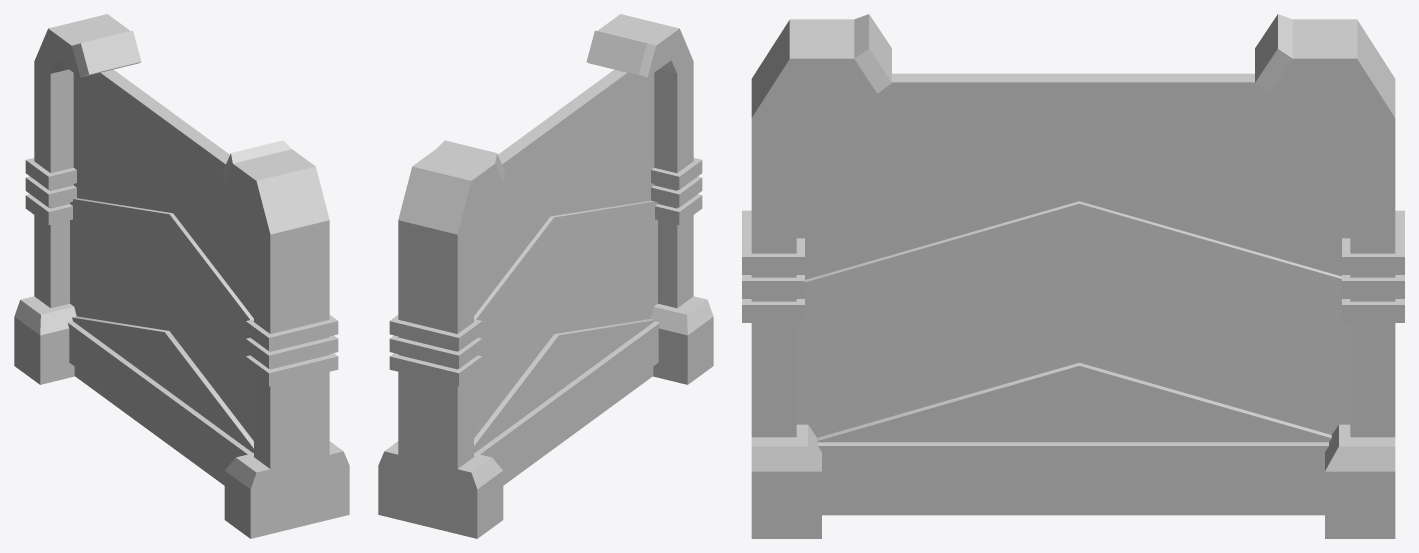
The model's file is AnimatedDoor.fbx.
The picture shows the model from 3 angles, left to right: view 1: azimuth 30°, elevation 25°; view 2: azimuth 150°, elevation 25°; view 3: azimuth 270°, elevation 25°; orthographic projection. The views are drawn at different scales.
Parts seen in each view (by area): view 1: Door_Ark, top_2, top, top_1; view 2: Door_Ark, top_2, top, top_1; view 3: Door_Ark, top_2, top, top_1.
Part boxes in pixels (left/top/right/bottom): Door_Ark: left=14, top=14, right=349, bottom=538; top_2: left=70, top=198, right=253, bottom=440; top: left=73, top=69, right=253, bottom=318; top_1: left=72, top=316, right=253, bottom=485; Door_Ark: left=378, top=14, right=713, bottom=538; top_2: left=474, top=200, right=657, bottom=438; top: left=474, top=69, right=654, bottom=315; top_1: left=474, top=319, right=655, bottom=485; Door_Ark: left=742, top=14, right=1404, bottom=538; top_2: left=796, top=201, right=1350, bottom=437; top: left=796, top=73, right=1350, bottom=279; top_1: left=817, top=362, right=1331, bottom=515.
Bounding box in the file's own units: 46.95 × 158 × 200.
